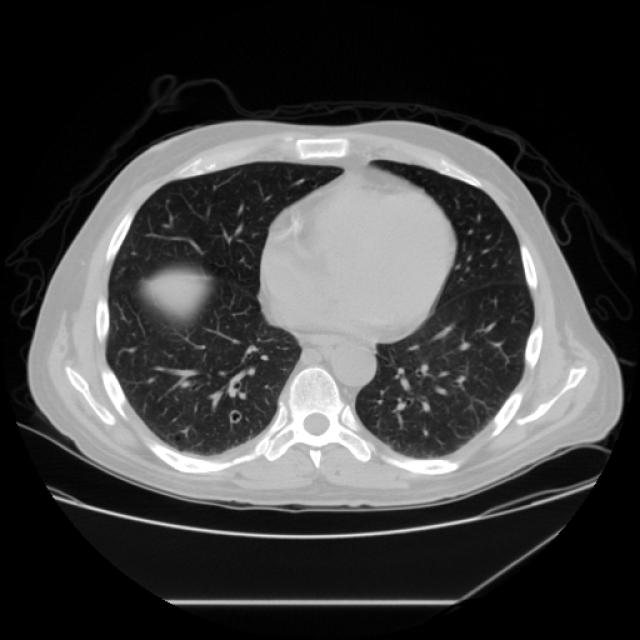nodule: (218, 399, 250, 431)
